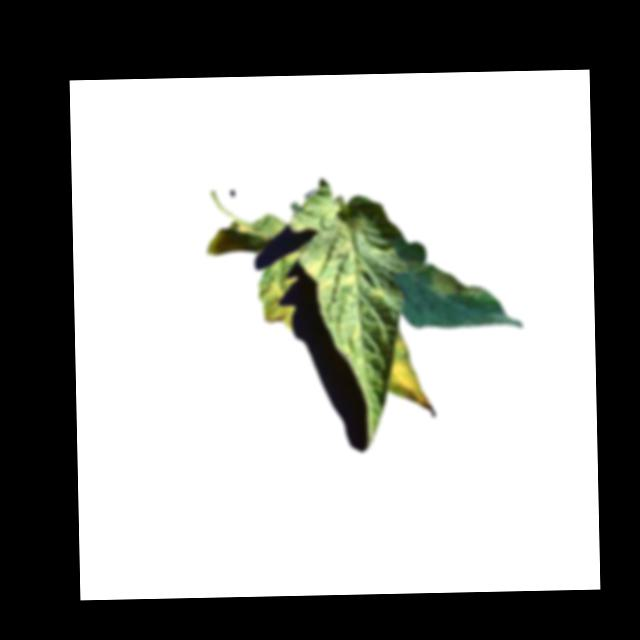Leaf_Mold: (387, 329, 437, 415), (303, 240, 359, 295), (427, 262, 493, 300), (257, 273, 295, 333)
